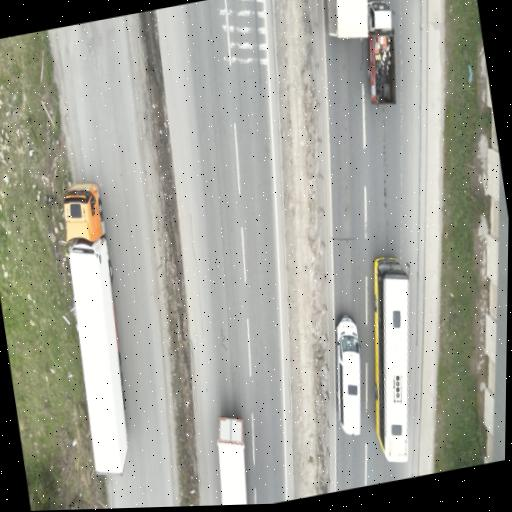bus: (373, 257, 408, 461)
car: (334, 316, 360, 434)
truck: (63, 183, 126, 474), (367, 1, 395, 105), (216, 416, 246, 504), (326, 0, 367, 38)
